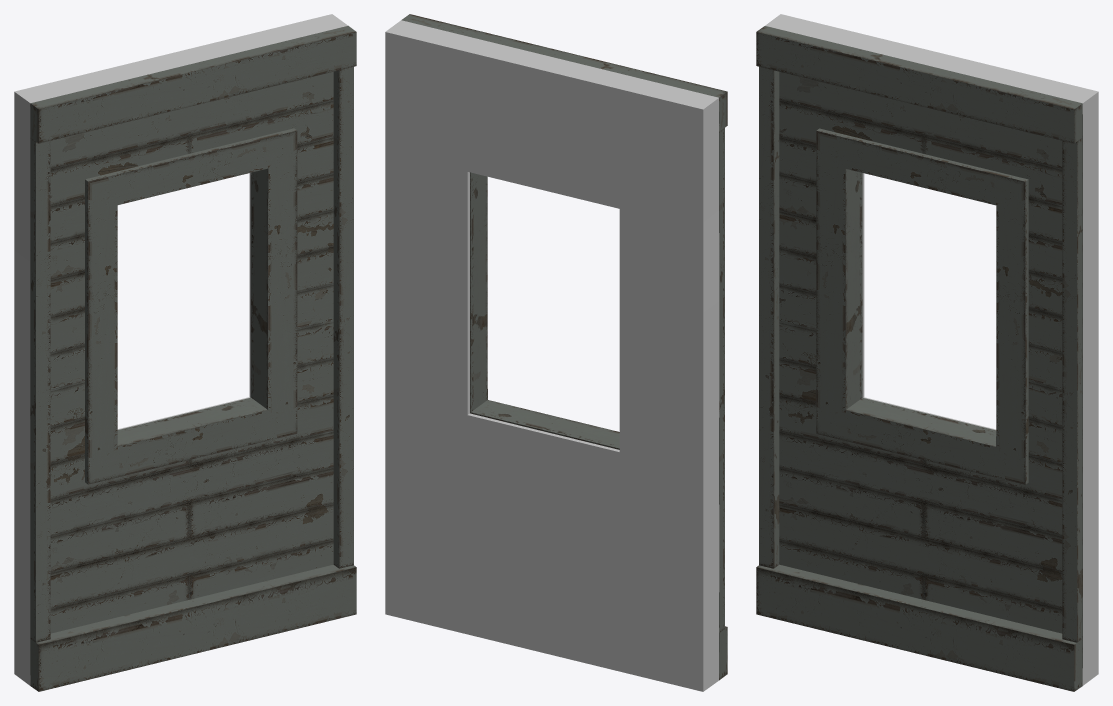
The model's file is SM_EWall200WindowA.FBX.
3 views of the same model, side by side, from view 1: azimuth 30°, elevation 25°; view 2: azimuth 150°, elevation 25°; view 3: azimuth 330°, elevation 25° (orthographic).
Visible parts, largest first — view 1: SM_EWall200WindowA; view 2: SM_EWall200WindowA; view 3: SM_EWall200WindowA.
Part boxes in pixels (x1,y1,x2,y2): SM_EWall200WindowA: (14, 14, 356, 691); SM_EWall200WindowA: (385, 14, 727, 691); SM_EWall200WindowA: (756, 14, 1098, 691).
Size of the model in its own units: 200 by 350 by 26.83.
